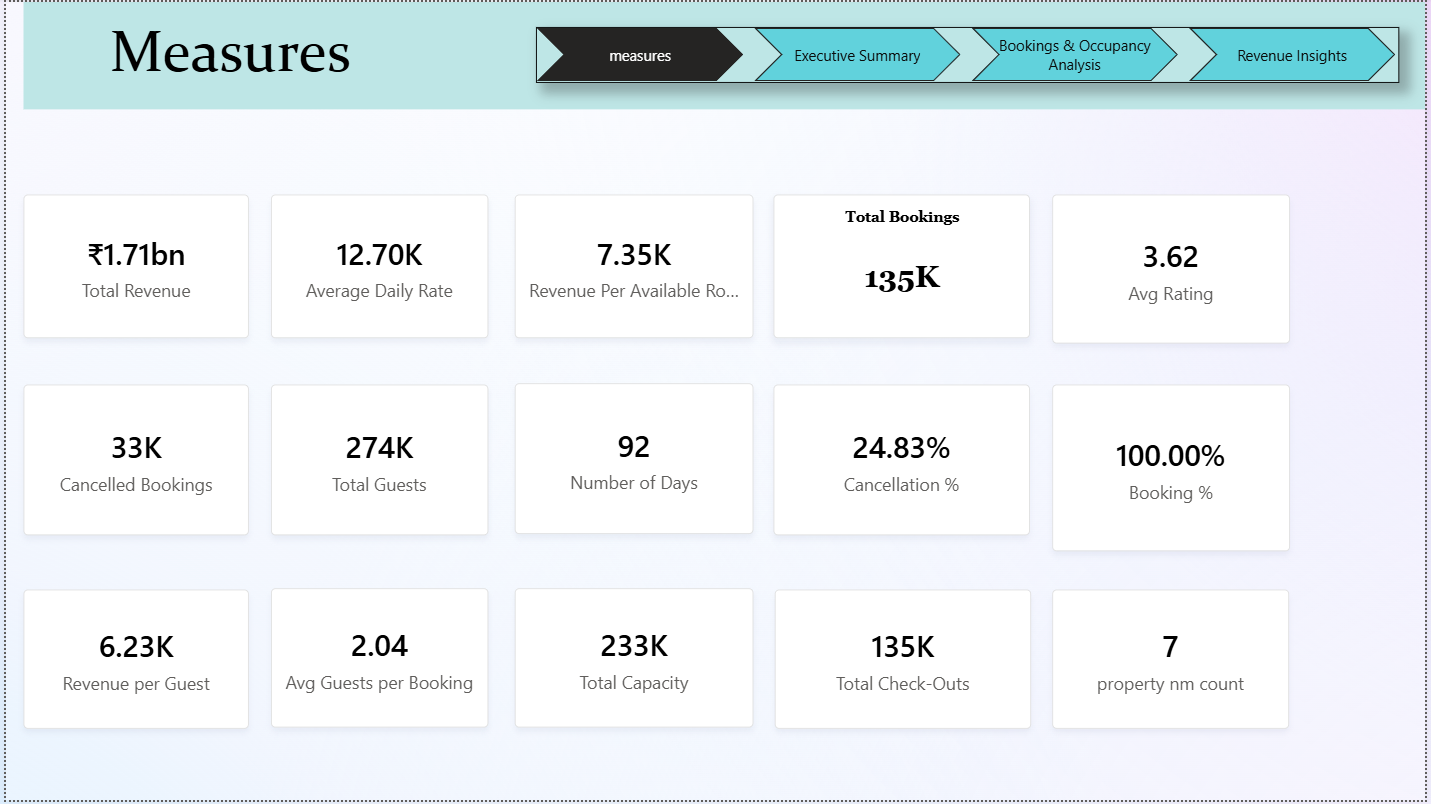

The page's visual inventory and layout, read from the dashboard file:
{"tool":"powerbi","page":{"name":"measures","canvas":[1280,720],"ordinal":0},"visuals":[{"type":"card","fields":{"Values":["measures (2).Total Revenue"]},"box":[15.9,173.1,203.4,129.8],"z":0},{"type":"card","title":"Total Bookings","fields":{"Values":["measures (2).Total Bookings"]},"box":[692.1,173.6,231.1,129.6],"z":1000},{"type":"card","fields":{"Values":["measures (2).Average Daily Rate"]},"box":[238.5,173.6,195.7,129.6],"z":2000},{"type":"card","fields":{"Values":["measures (2).Revenue Per Available Room"]},"box":[458.6,173.6,215.2,129.6],"z":3000},{"type":"card","fields":{"Values":["measures (2).Cancelled Bookings"]},"box":[15.9,344.8,203.4,135.6],"z":4000},{"type":"card","fields":{"Values":["measures (2).Cancellation %"]},"box":[692.1,344.8,231.1,135.7],"z":5000},{"type":"card","fields":{"Values":["measures (2).Total Guests"]},"box":[238.5,344.8,195.7,135.7],"z":6000},{"type":"card","fields":{"Values":["measures (2).Avg Guests per Booking"]},"box":[238.5,528.3,195.7,126],"z":7000},{"type":"card","fields":{"Values":["measures (2).Revenue per Guest"]},"box":[15.9,529.5,203.4,125.5],"z":8000},{"type":"card","fields":{"Values":["measures (2).Number of Days"]},"box":[458.6,343.6,215.2,135.7],"z":9000},{"type":"card","fields":{"Values":["measures (2).Total Capacity"]},"box":[458.6,528.3,215.2,126],"z":10000},{"type":"card","fields":{"Values":["measures (2).Total Check-Outs"]},"box":[693.3,529.5,231.1,126],"z":11000},{"type":"textbox","box":[15.8,0,1264,97.1],"z":12000},{"type":"card","fields":{"Values":["measures (2).Avg Rating"]},"box":[943,173.6,214.2,134.4],"z":13000},{"type":"pageNavigator","box":[477.8,22.8,778.2,50.7],"z":14000},{"type":"card","fields":{"Values":["measures (2).Booking %"]},"box":[943,345,214,150],"z":15000},{"type":"card","fields":{"Values":["dim_hotels.count"]},"box":[943.6,529.5,213.5,125.5],"z":16000}]}

Visuals, with their boxes in screenshot pixels (x1, y1, x2, y2), scaled from the page's 1280x720 canvas onto the 1431x804 screenshot:
card - measures (2).Total Revenue: box(18, 193, 245, 338)
"Total Bookings" card: box(774, 194, 1032, 339)
card - measures (2).Average Daily Rate: box(267, 194, 485, 339)
card - measures (2).Revenue Per Available Room: box(513, 194, 753, 339)
card - measures (2).Cancelled Bookings: box(18, 385, 245, 536)
card - measures (2).Cancellation %: box(774, 385, 1032, 537)
card - measures (2).Total Guests: box(267, 385, 485, 537)
card - measures (2).Avg Guests per Booking: box(267, 590, 485, 731)
card - measures (2).Revenue per Guest: box(18, 591, 245, 731)
card - measures (2).Number of Days: box(513, 384, 753, 535)
card - measures (2).Total Capacity: box(513, 590, 753, 731)
card - measures (2).Total Check-Outs: box(775, 591, 1033, 732)
textbox: box(18, 0, 1430, 108)
card - measures (2).Avg Rating: box(1054, 194, 1294, 344)
pageNavigator: box(534, 25, 1404, 82)
card - measures (2).Booking %: box(1054, 385, 1293, 553)
card - dim_hotels.count: box(1055, 591, 1294, 731)
